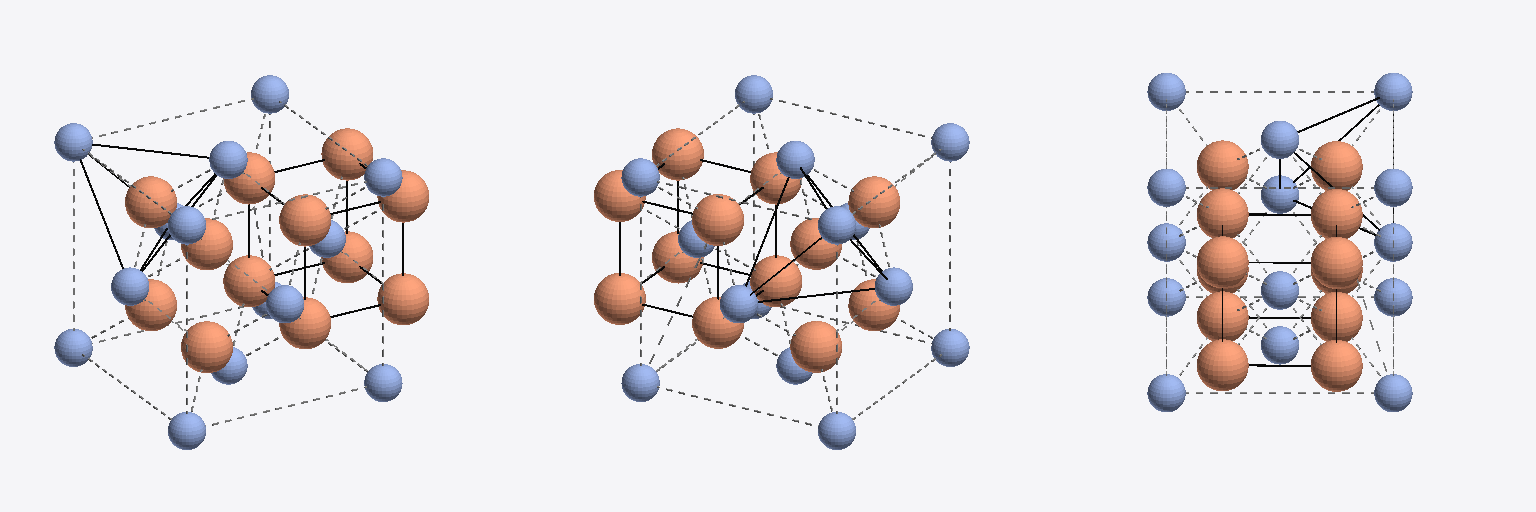
The model's file is caf2.obj.
The picture shows the model from 3 angles: view 1: azimuth 30°, elevation 25°; view 2: azimuth 150°, elevation 25°; view 3: azimuth 270°, elevation 25°; orthographic projection.
Visible parts, largest first — view 1: Sphere068, Shape006, Object001; view 2: Sphere068, Shape006, Object001; view 3: Sphere068, Shape006, Object001.
Boxes of the visible parts, x1,y1,x2,y2 form: Sphere068: [54, 75, 402, 449]; Shape006: [248, 128, 428, 324]; Object001: [80, 144, 216, 271]; Sphere068: [621, 75, 969, 449]; Shape006: [594, 128, 776, 324]; Object001: [745, 167, 887, 302]; Sphere068: [1147, 73, 1412, 411]; Shape006: [1197, 213, 1362, 391]; Object001: [1279, 97, 1393, 235].
Bounding box in the file's own units: 107 × 86.35 × 86.35.